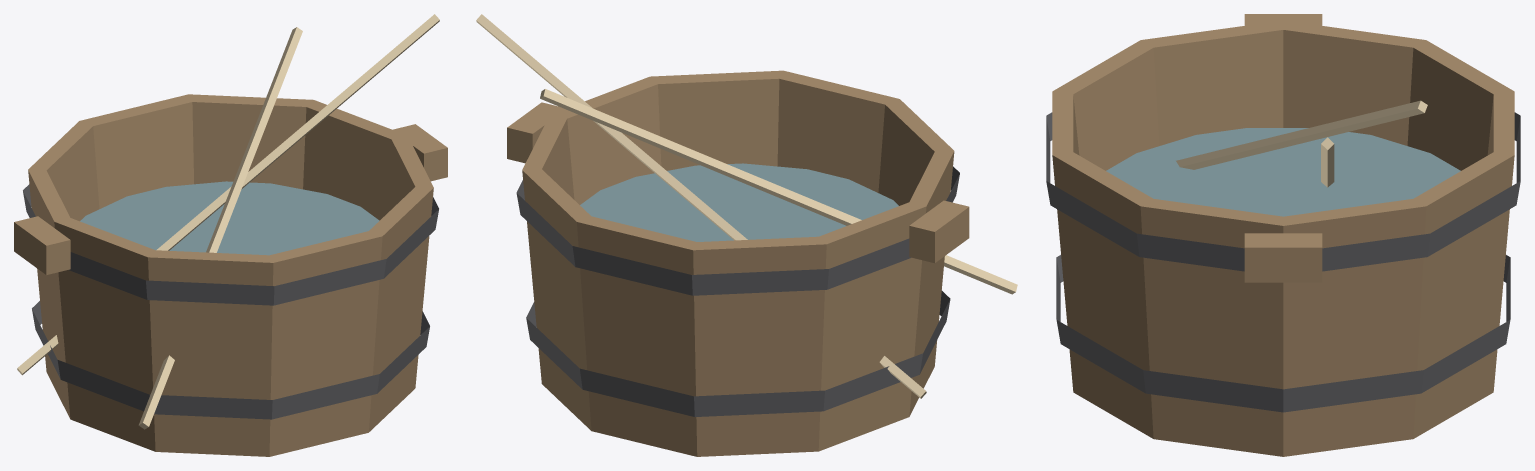
File: prop-soaking-tub-small.fbx
3 renders of one model, left to right at view 1: azimuth 30°, elevation 25°; view 2: azimuth 150°, elevation 25°; view 3: azimuth 270°, elevation 25°, orthographic. The views are drawn at different scales.
Parts seen in each view (by area): view 1: prop-soaking-tub-small; view 2: prop-soaking-tub-small; view 3: prop-soaking-tub-small.
Part boxes in pixels (box(x1,y1,x2,y2)): prop-soaking-tub-small: box(14, 14, 447, 456); prop-soaking-tub-small: box(476, 14, 1017, 456); prop-soaking-tub-small: box(1046, 14, 1520, 456).
Size of the model in its own units: 53.28 by 35.52 by 42.95.
